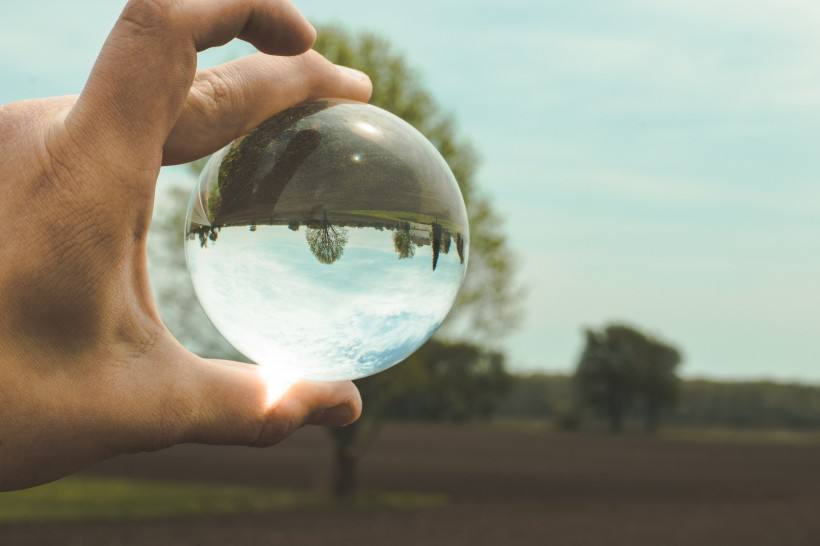no-phone: (4, 1, 471, 490)
